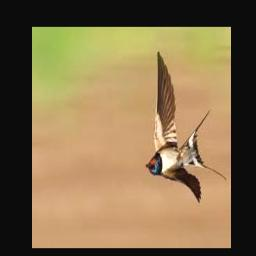Swallow: (145, 51, 226, 203)
